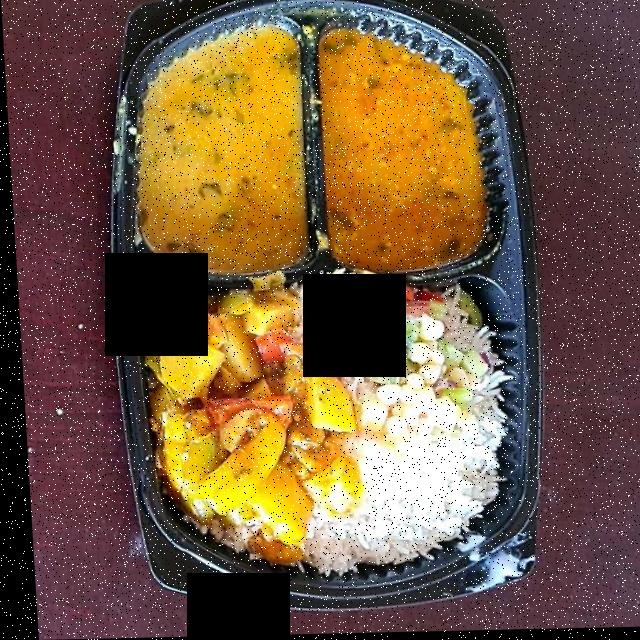curry-vegetarian: (134, 39, 481, 539)
rice: (293, 271, 493, 572)
